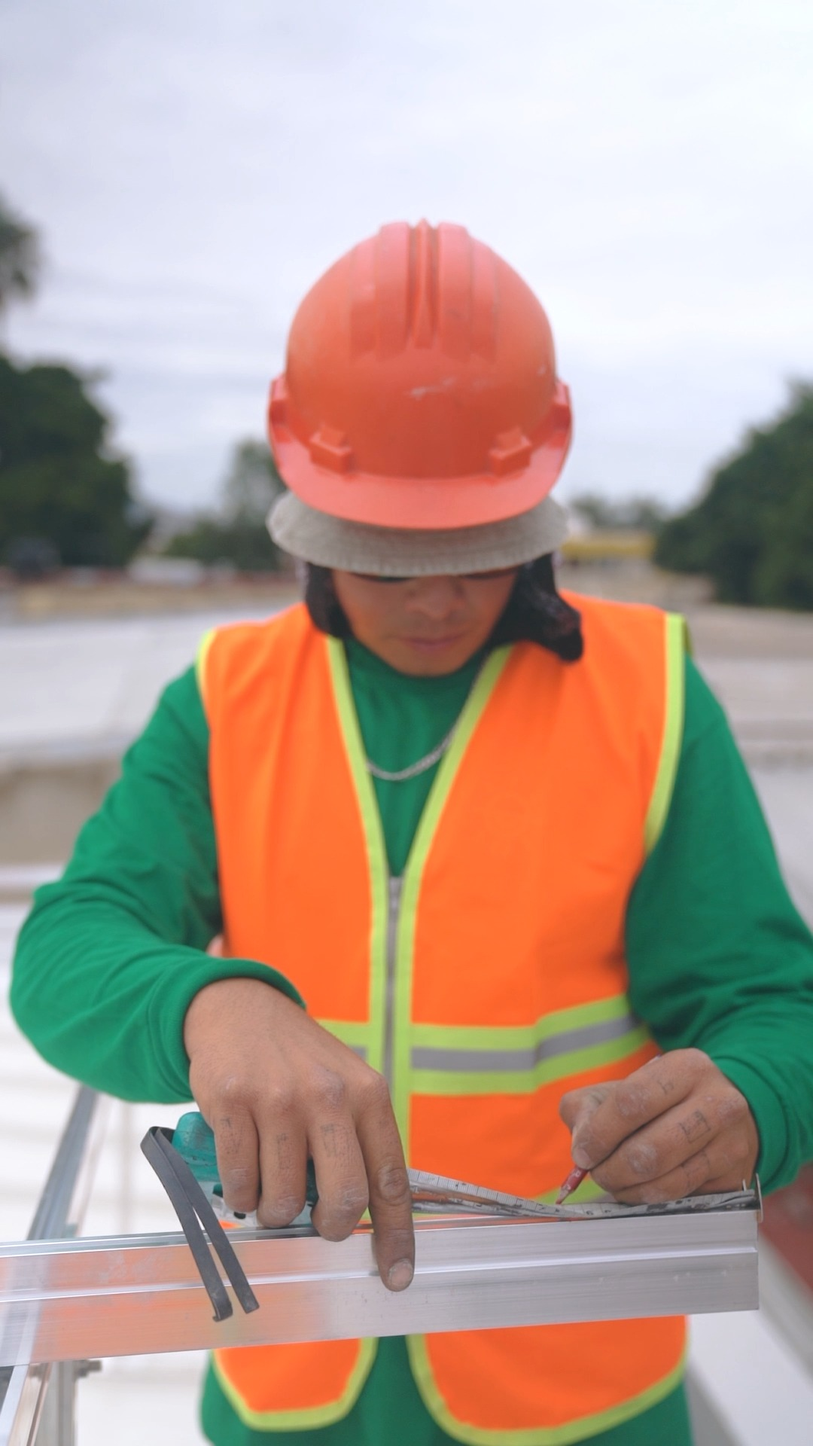No-gloves: (178, 967, 440, 1279), (547, 1032, 757, 1224)
